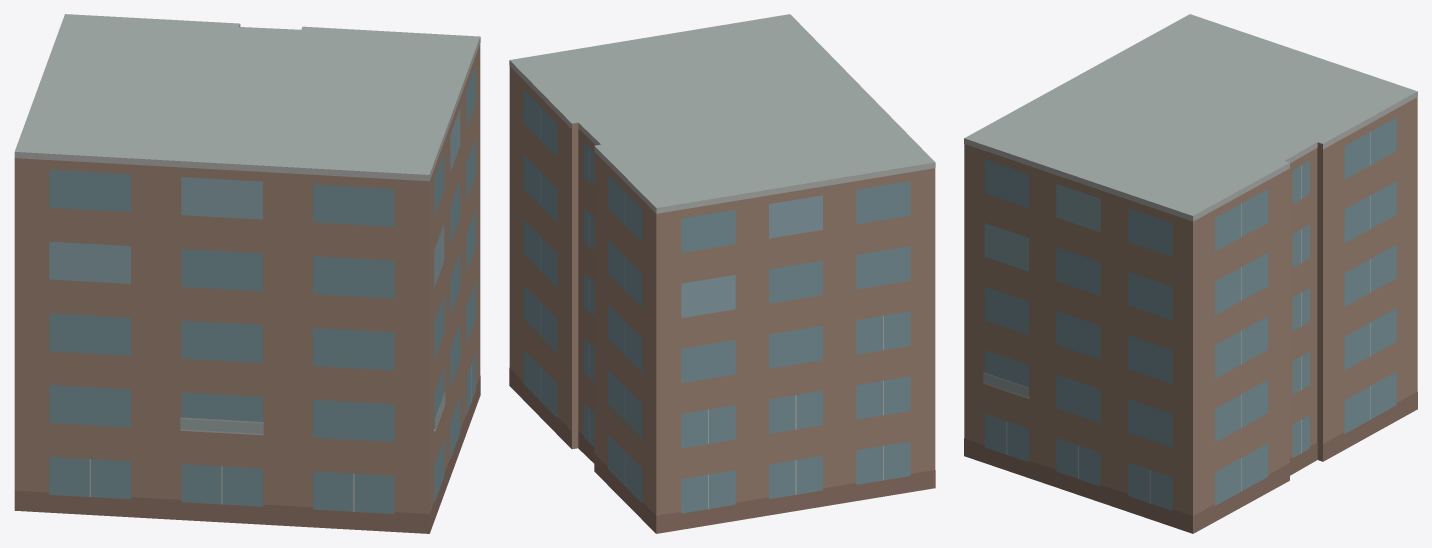
File: survey-upis-32956617.glb
The picture shows the model from 3 angles, left to right: view 1: azimuth 30°, elevation 25°; view 2: azimuth 150°, elevation 25°; view 3: azimuth 270°, elevation 25°; orthographic projection. The views are drawn at different scales.
Parts seen in each view (by area): view 1: survey-upis-32956617.tmp; view 2: survey-upis-32956617.tmp; view 3: survey-upis-32956617.tmp.
Boxes of the visible parts, left/top/right/bottom form: survey-upis-32956617.tmp: left=14, top=14, right=480, bottom=533; survey-upis-32956617.tmp: left=509, top=14, right=935, bottom=533; survey-upis-32956617.tmp: left=964, top=14, right=1417, bottom=533.
Size of the model in its own units: 19.1 by 14 by 18.12.
